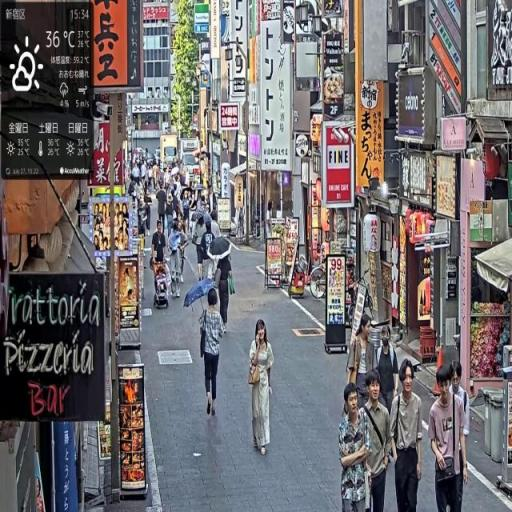person: (428, 364, 469, 512), (390, 360, 425, 512), (361, 371, 396, 512), (338, 382, 373, 512), (248, 317, 277, 460), (199, 288, 227, 419), (347, 315, 377, 411), (378, 329, 402, 420), (216, 253, 235, 335), (152, 221, 168, 271)
